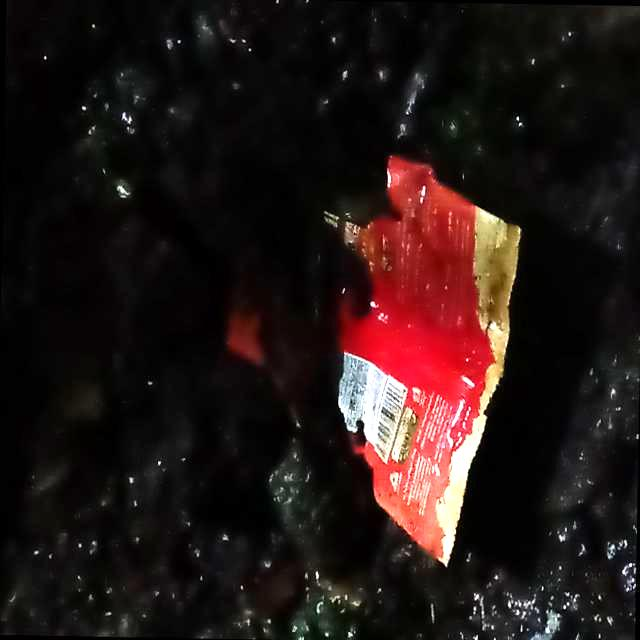packet: (254, 157, 538, 556)
